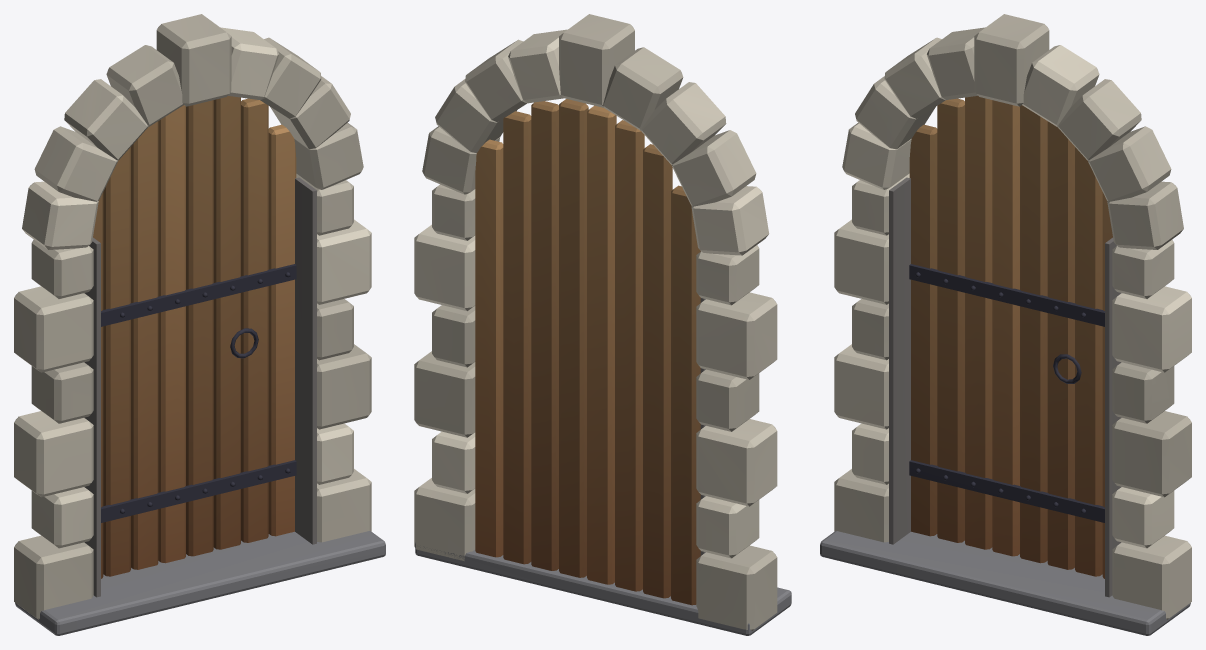
File: door.glb
3 renders of one model, left to right at view 1: azimuth 30°, elevation 25°; view 2: azimuth 150°, elevation 25°; view 3: azimuth 330°, elevation 25°, orthographic.
Parts seen in each view (by area): view 1: Door; view 2: Door; view 3: Door.
Boxes of the visible parts, x1=… form: Door: x1=14, y1=14, x2=385, y2=635; Door: x1=414, y1=14, x2=791, y2=635; Door: x1=820, y1=14, x2=1191, y2=635.
Size of the model in its own units: 1.52 by 2.38 by 0.34.
